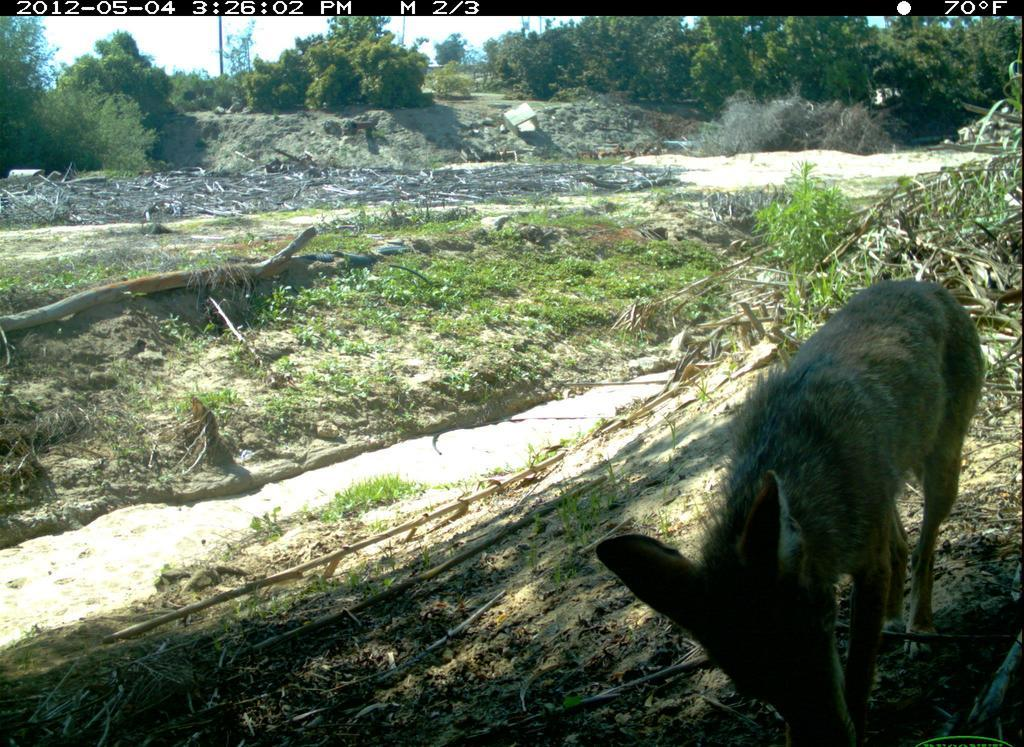coyote: (601, 267, 991, 743)
